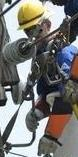boots: (35, 135, 60, 157)
gloves: (36, 110, 72, 157), (21, 106, 40, 130)
hard-hat: (14, 0, 50, 31)
ppe-suit: (0, 0, 2, 1)
